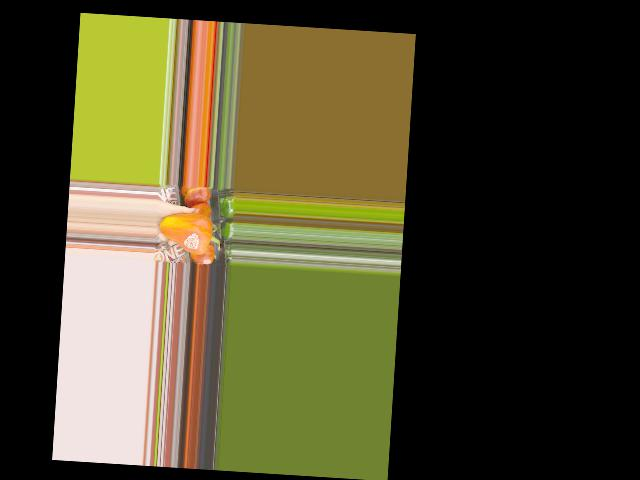bell_pepper: (159, 206, 223, 257)
